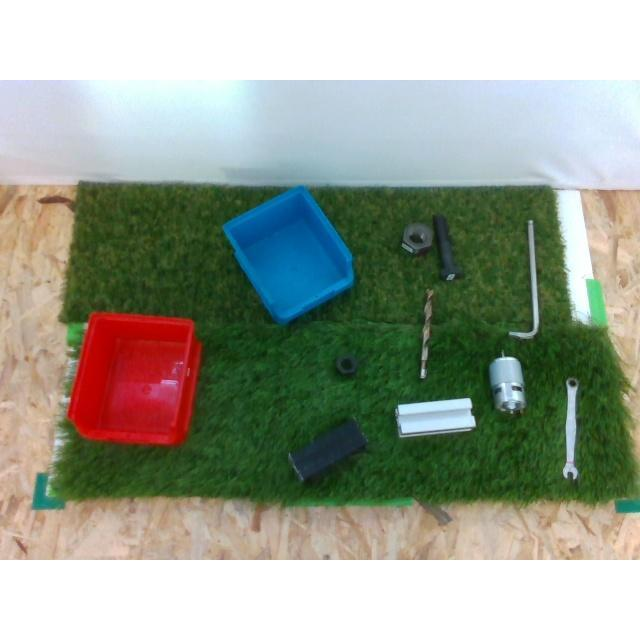AllenKey: (508, 220, 540, 338)
Drill: (418, 288, 434, 379)
M20: (334, 356, 358, 374)
M20_100: (432, 214, 464, 282)
M30: (401, 223, 432, 251)
Motor2: (490, 354, 526, 414)
S40_40_B: (287, 418, 367, 482)
S40_40_G: (394, 398, 474, 436)
Wrench: (563, 379, 579, 481)
container_box_blue: (222, 184, 354, 324)
container_box_red: (66, 312, 202, 448)
